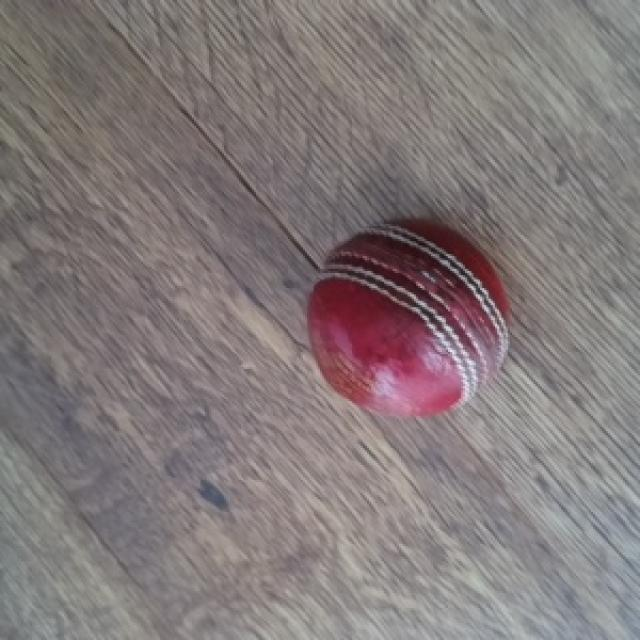ball: (305, 220, 512, 422)
